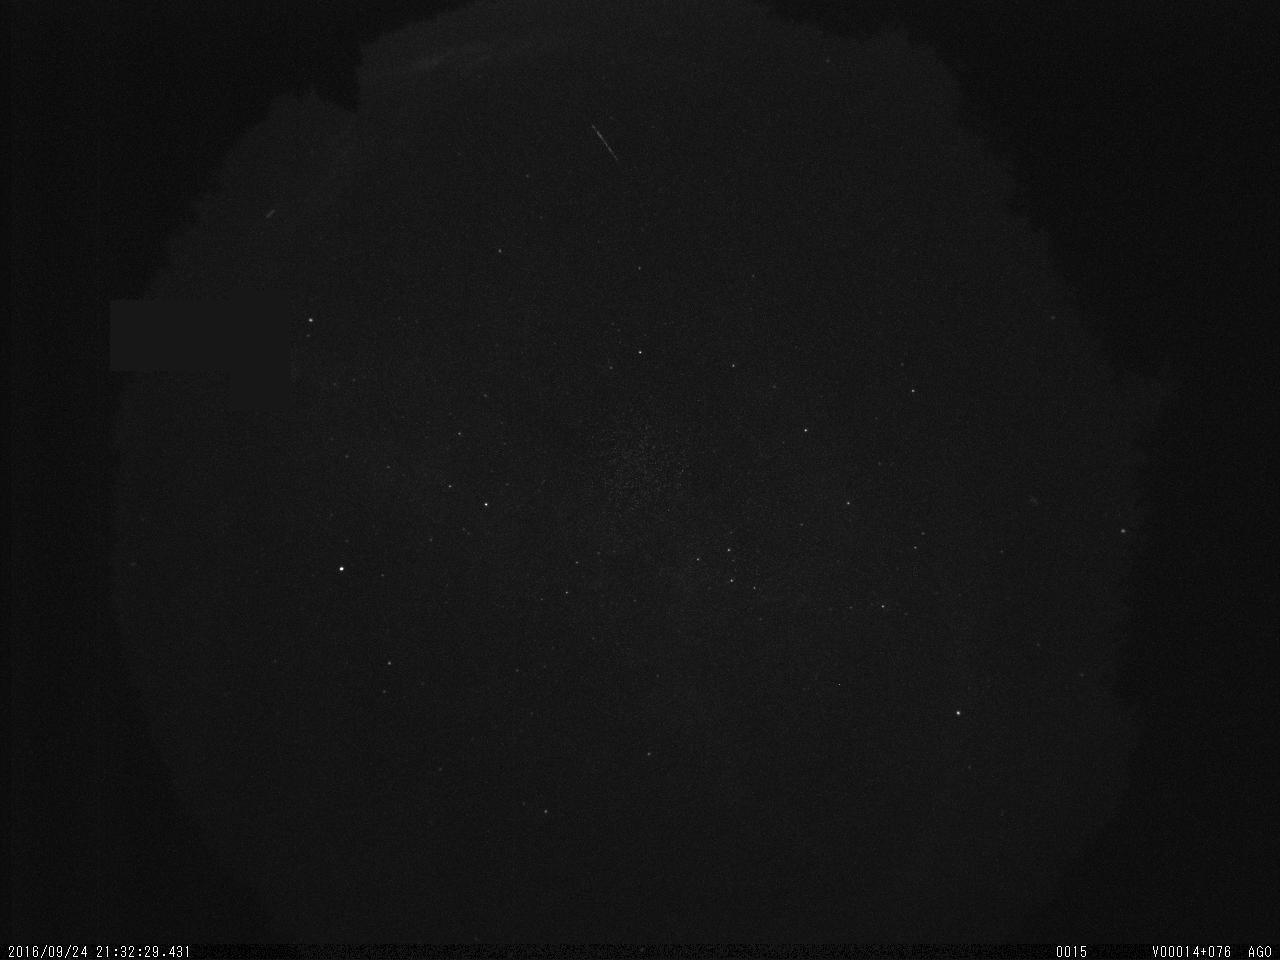meteor: (559, 105, 652, 184)
